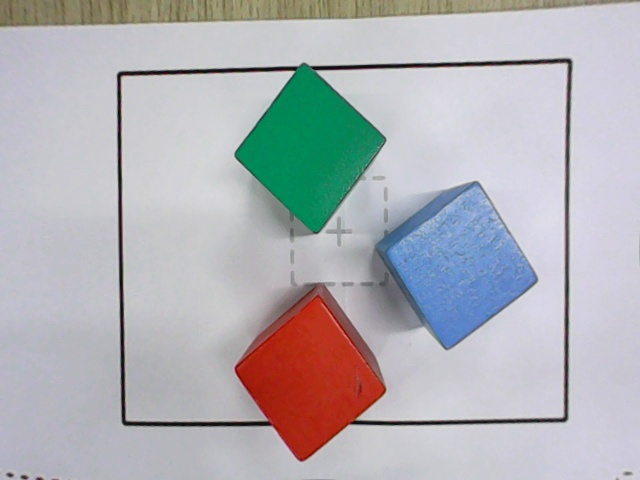upside of big cube: (232, 62, 387, 237), (231, 296, 386, 463), (386, 181, 538, 351)
